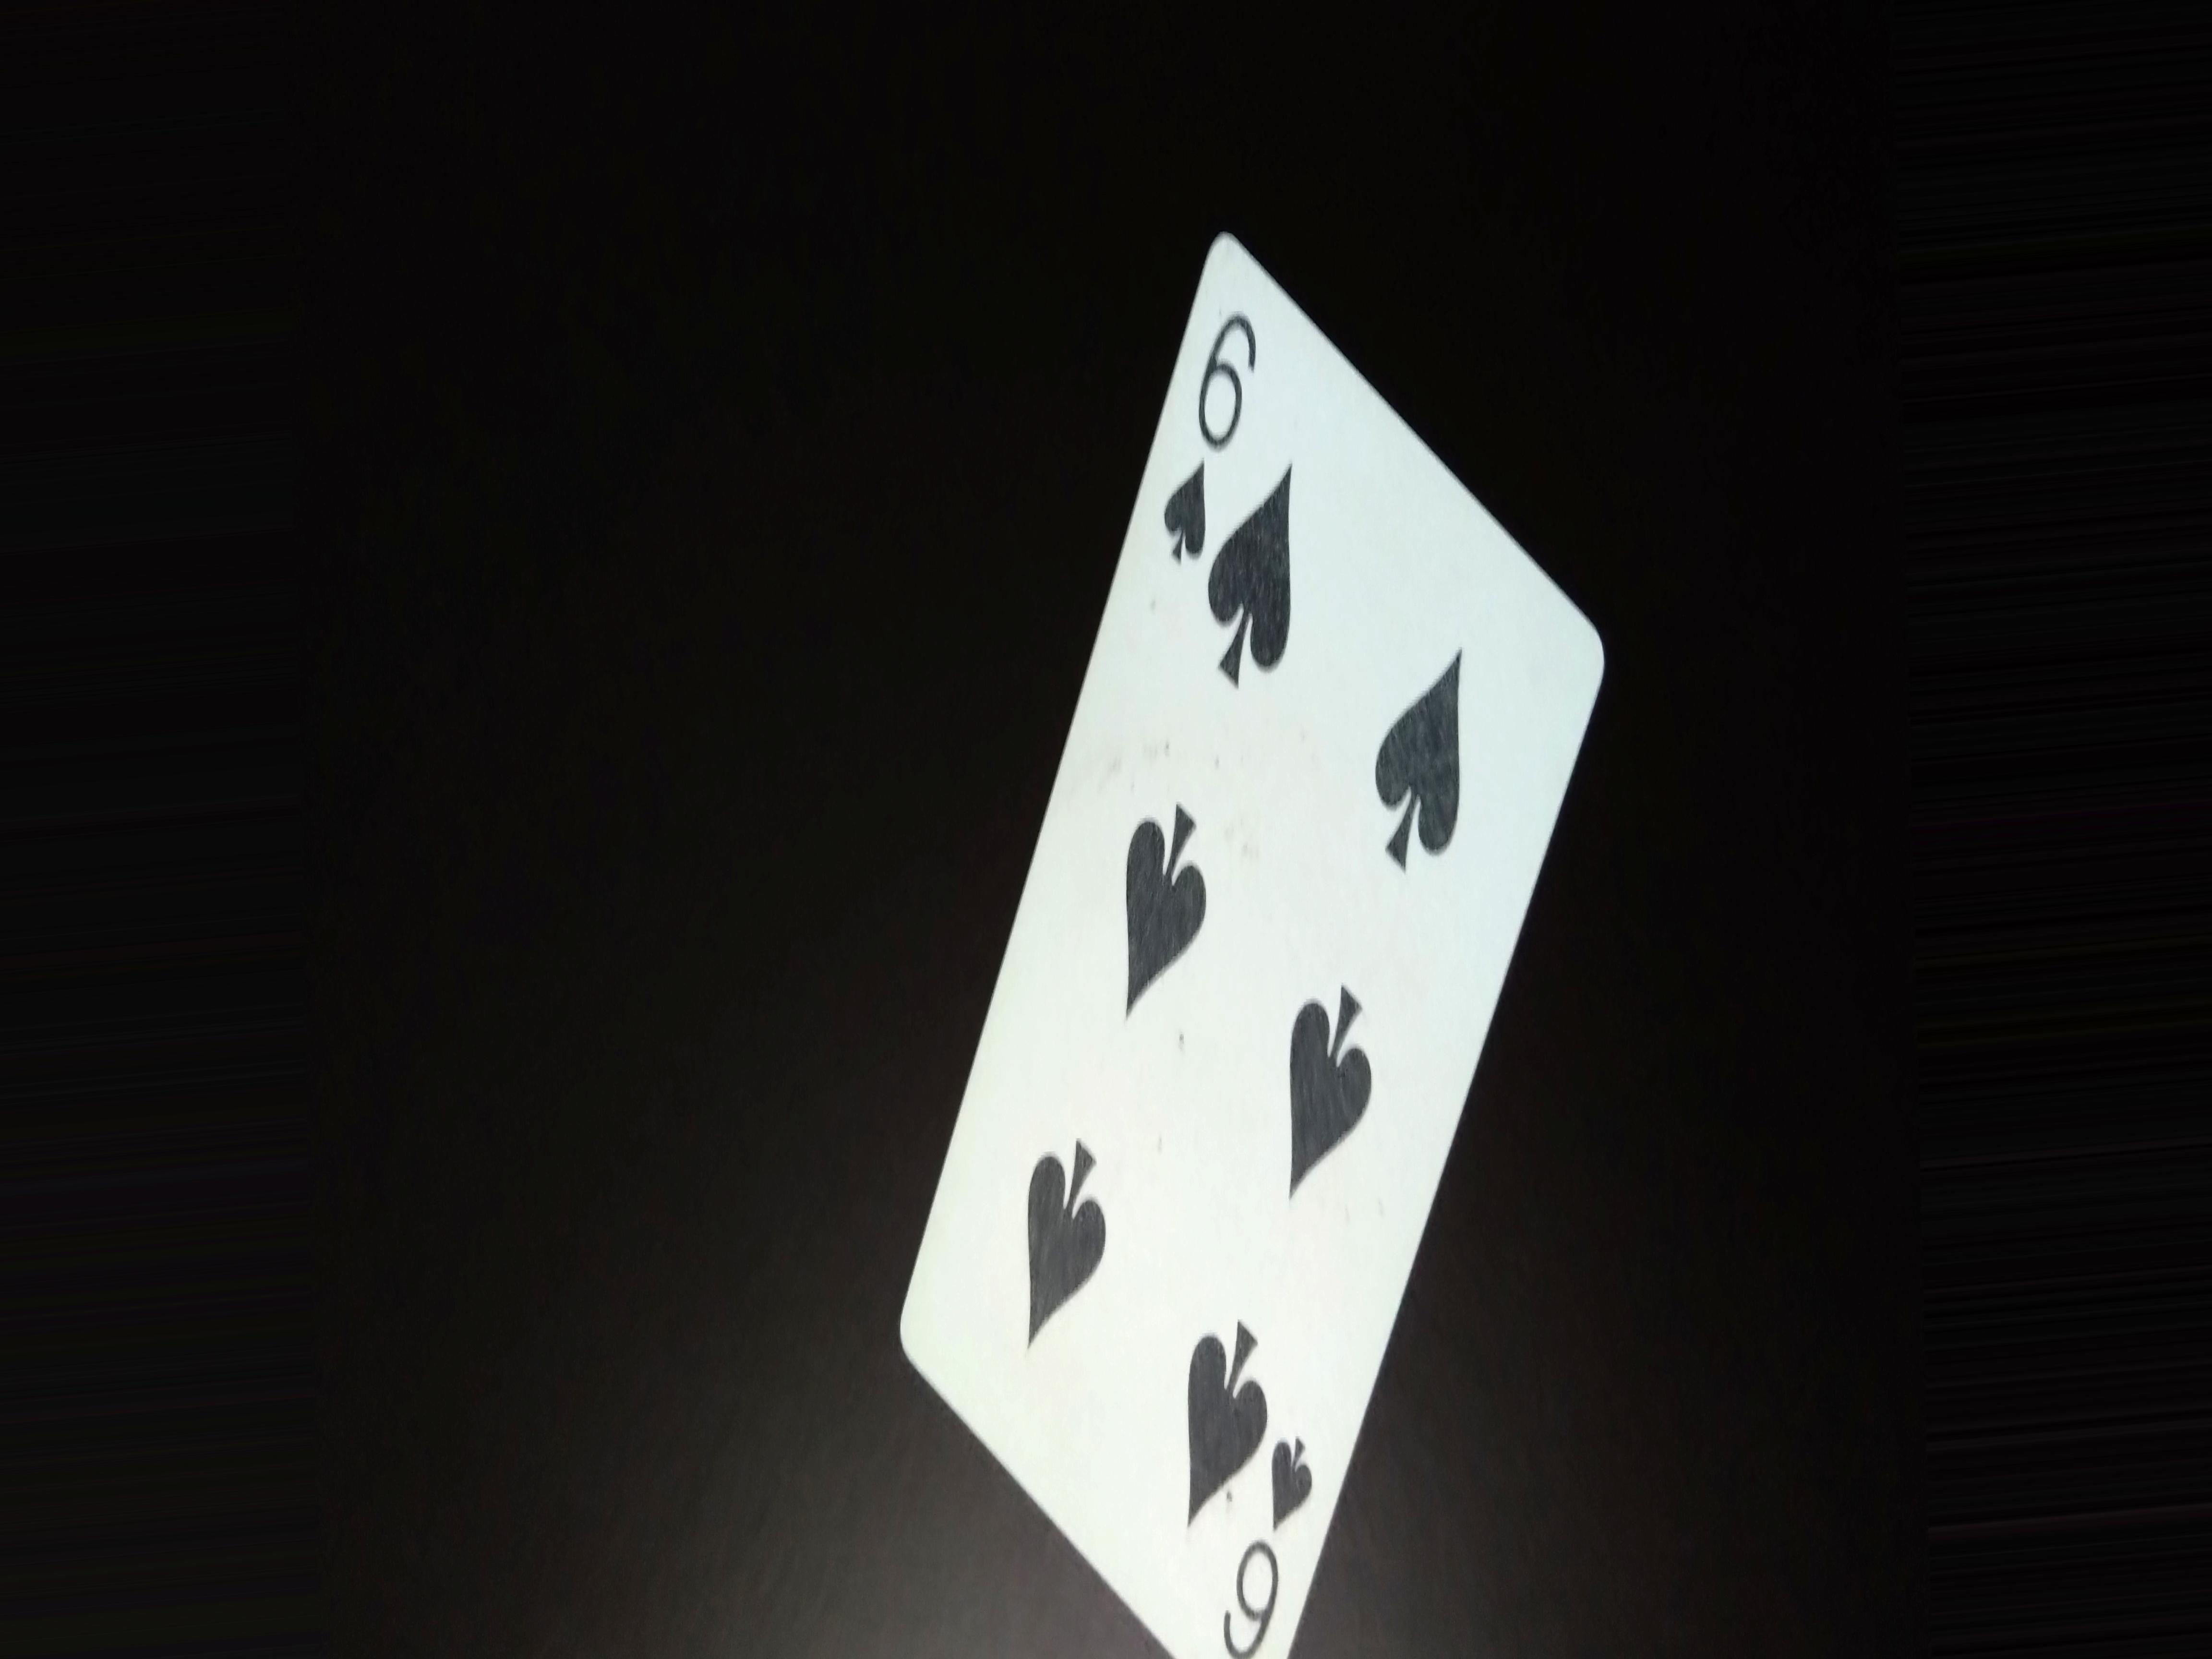6S: (1151, 284, 1282, 584)
